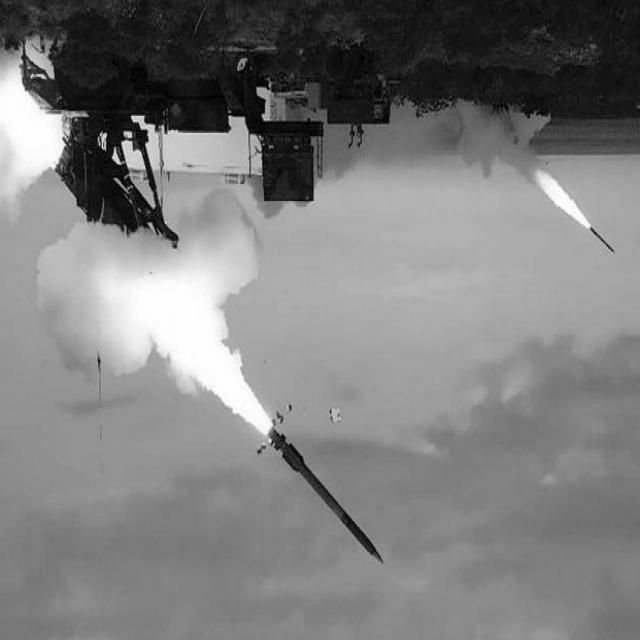missile: (252, 422, 385, 573), (588, 219, 615, 259)
